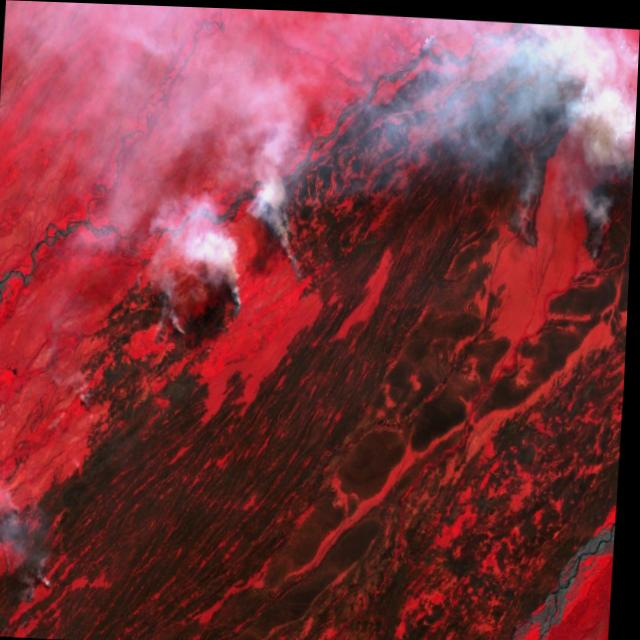fire: (69, 257, 256, 432), (0, 470, 74, 639), (572, 123, 636, 268), (493, 17, 595, 97), (258, 182, 325, 286), (510, 193, 551, 253)
